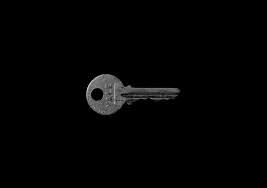kicharina: (81, 66, 184, 119)
